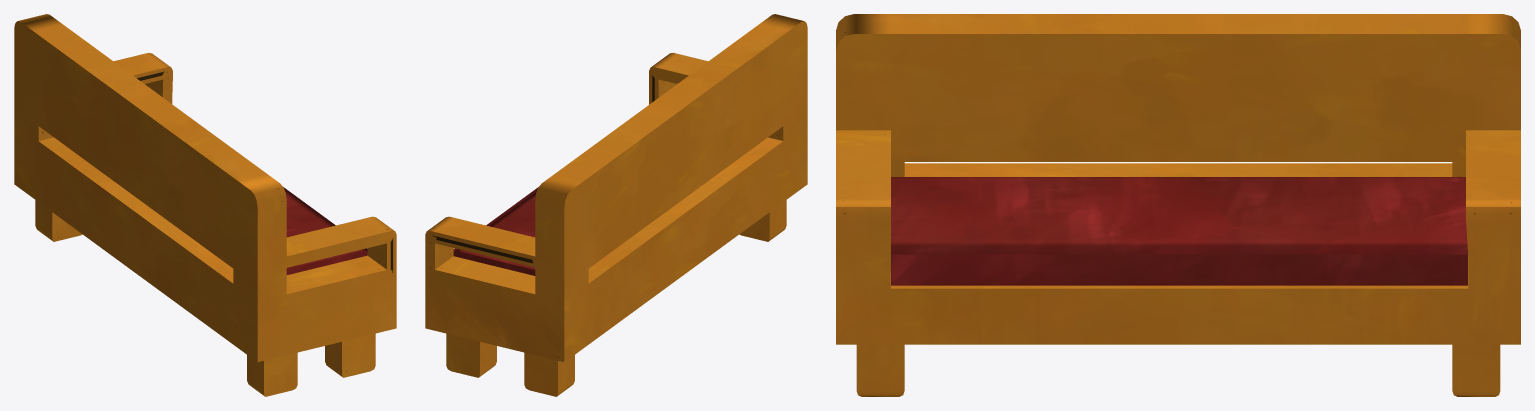
The model's file is House_Couch_v01.fbx.
The picture shows the model from 3 angles, left to right: view 1: azimuth 30°, elevation 25°; view 2: azimuth 150°, elevation 25°; view 3: azimuth 270°, elevation 25°; orthographic projection. The views are drawn at different scales.
Visible parts, largest first — view 1: Couch, Seat; view 2: Couch, Seat; view 3: Couch, Seat.
Boxes of the visible parts, left/top/right/bottom form: Couch: left=14, top=14, right=396, bottom=396; Seat: left=283, top=187, right=367, bottom=274; Couch: left=425, top=14, right=807, bottom=396; Seat: left=453, top=187, right=538, bottom=275; Couch: left=836, top=14, right=1520, bottom=396; Seat: left=891, top=177, right=1467, bottom=285.
Size of the model in its own units: 60.41 by 181 by 87.47.
Materials: 2 (2 with a texture image).
